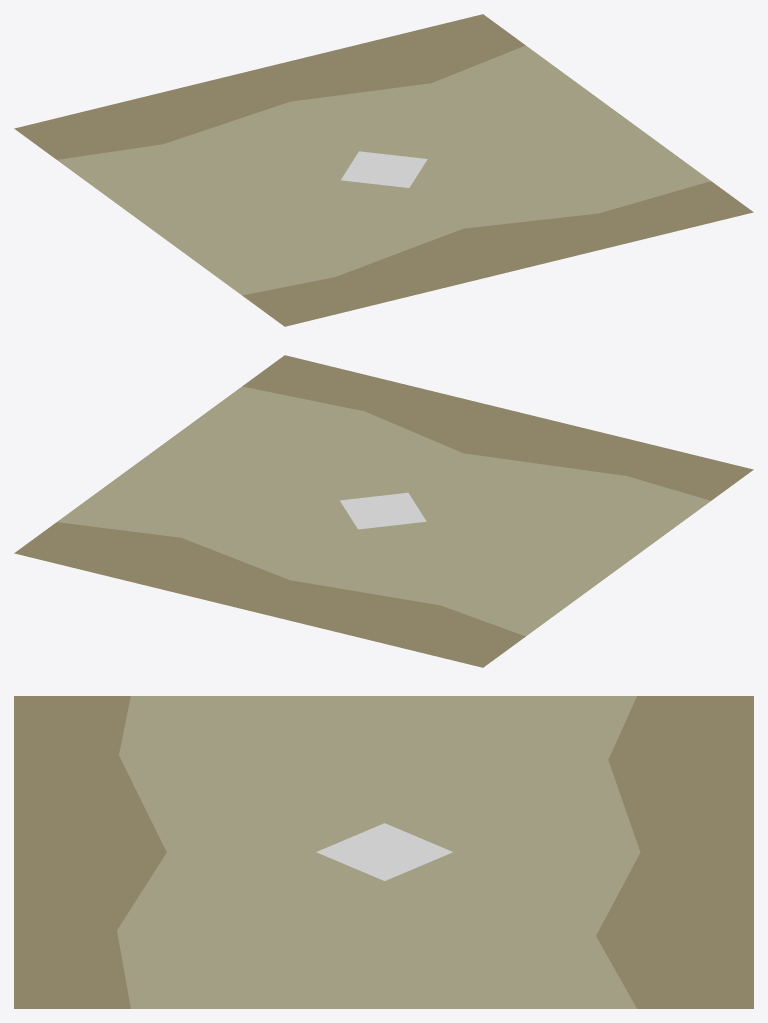
Rendered from Straight Road.fbx.
The picture shows the model from 3 angles, top to bottom: view 1: azimuth 30°, elevation 25°; view 2: azimuth 150°, elevation 25°; view 3: azimuth 270°, elevation 25°; orthographic projection. The views are drawn at different scales.
Parts seen in each view (by area): view 1: polySurface7615; view 2: polySurface7615; view 3: polySurface7615.
Part boxes in pixels (x1=…): polySurface7615: x1=14, y1=14, x2=753, y2=326; polySurface7615: x1=14, y1=355, x2=753, y2=667; polySurface7615: x1=14, y1=696, x2=753, y2=1008.
Bounding box in the file's own units: 100 × 0.1 × 100.
